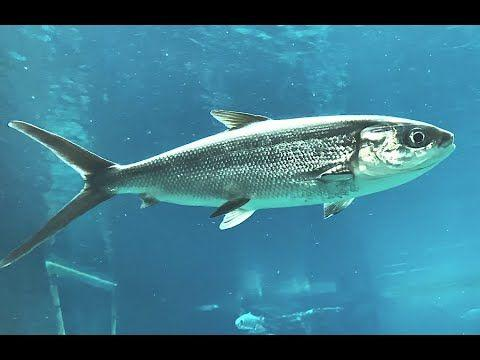Bangus: (4, 104, 459, 273)
